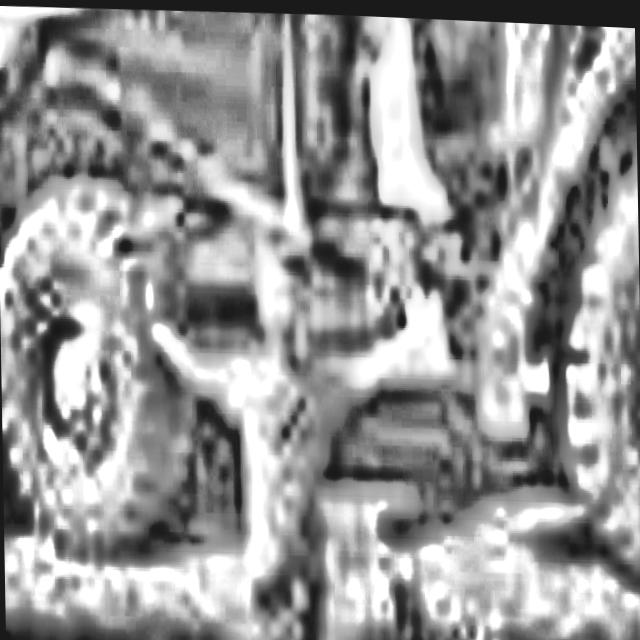dump_truck: (0, 0, 640, 618)
